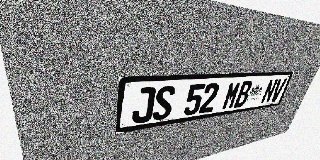2: (198, 83, 220, 114)
5: (183, 83, 206, 116)
B: (233, 80, 253, 108)
J: (131, 87, 156, 124)
M: (221, 81, 242, 110)
N: (260, 79, 279, 104)
S: (152, 85, 176, 121)
V: (269, 78, 287, 102)
